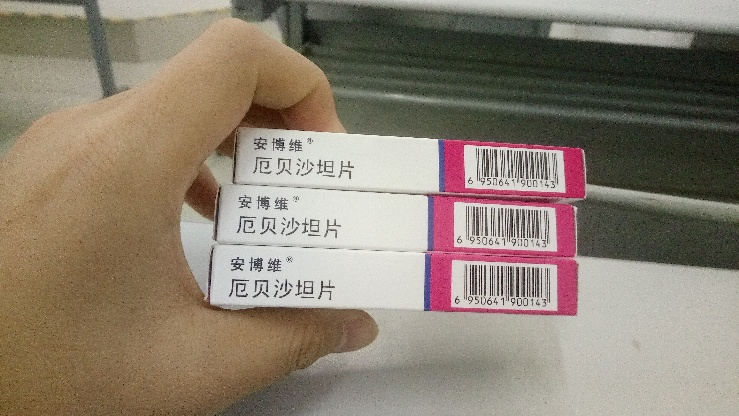pillbox: (205, 238, 587, 320), (231, 123, 591, 200), (213, 183, 576, 258)
